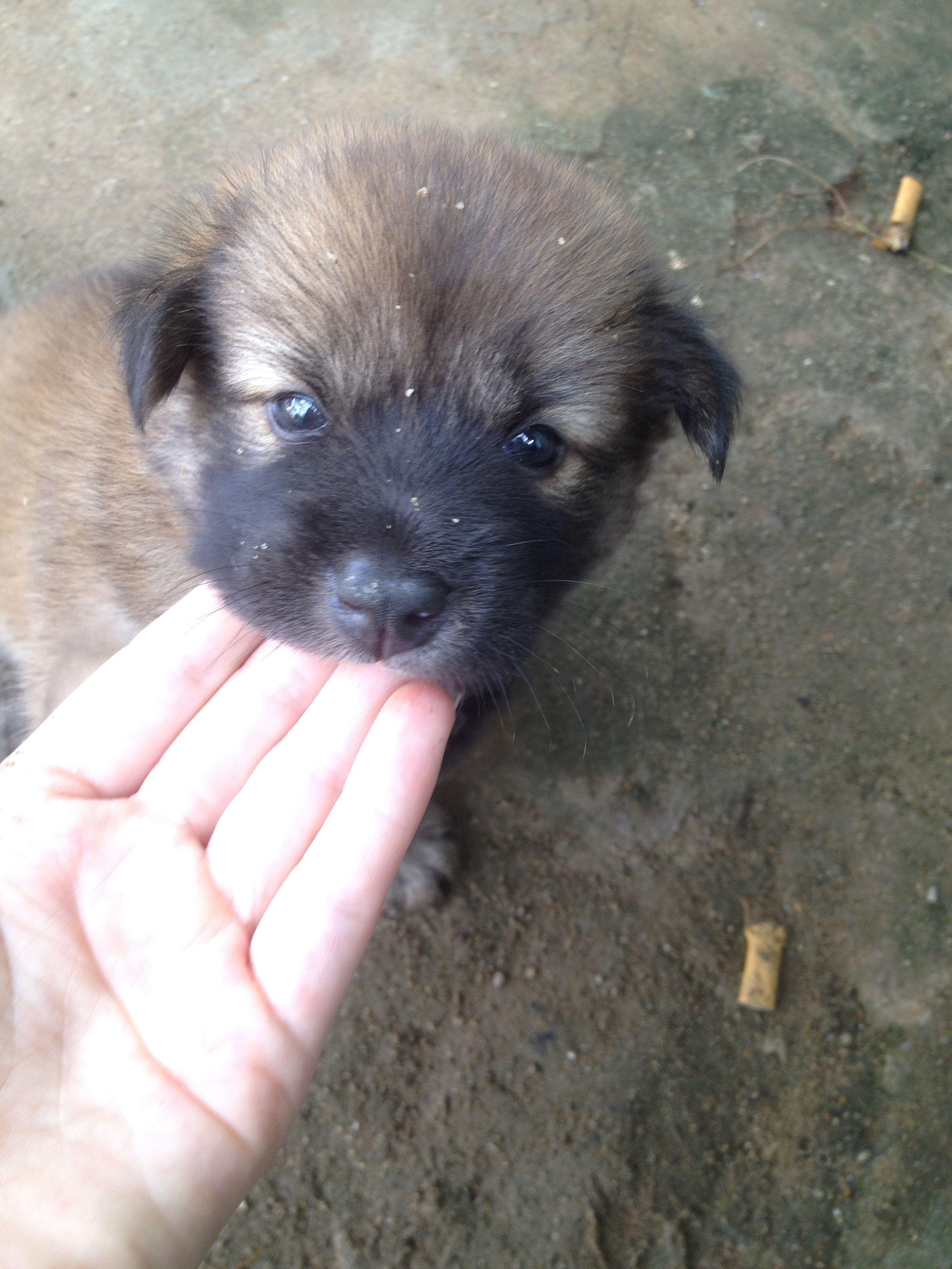puppy-dog: (1, 108, 749, 918)
